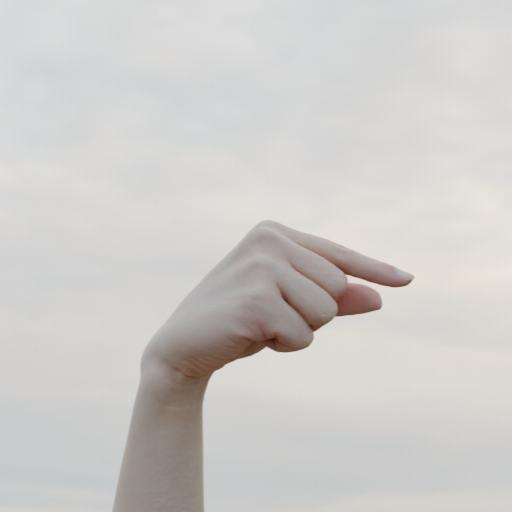G: (118, 202, 428, 396)
